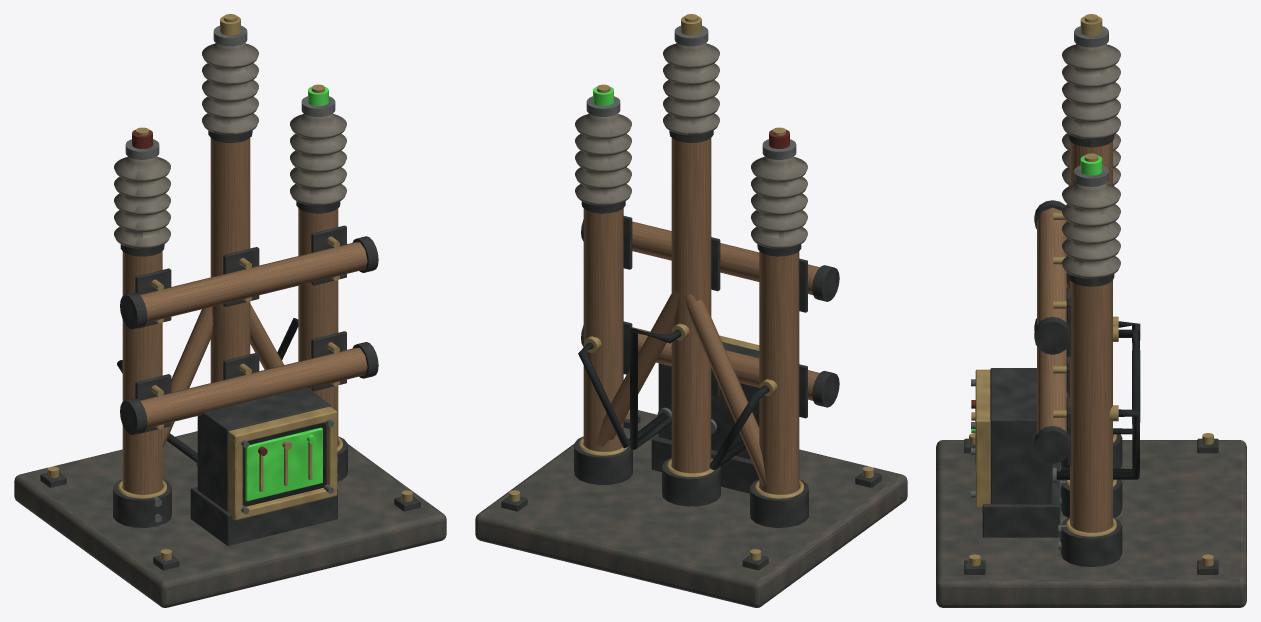
File: power-grid-v02.glb
The picture shows the model from 3 angles, left to right: view 1: azimuth 30°, elevation 25°; view 2: azimuth 150°, elevation 25°; view 3: azimuth 270°, elevation 25°; orthographic projection. The views are drawn at different scales.
Visible parts, largest first — view 1: POWER GRID | dressed stone footing, POWER GRID | longitudinal timber post.001, POWER GRID | retained timber crossarm.001, POWER GRID | retained timber crossarm, POWER GRID | longitudinal timber post, POWER GRID | sealed timber junction board, POWER GRID | continuous copper ceramic insulator, POWER GRID | continuous red ceramic insulator, POWER GRID | continuous green ceramic insulator, POWER GRID | longitudinal timber post.002, POWER GRID | junction box founded foot, POWER GRID | fixed lacquered green legend (+16 smaller); view 2: POWER GRID | dressed stone footing, POWER GRID | longitudinal timber post.001, POWER GRID | longitudinal timber post, POWER GRID | longitudinal timber post.002, POWER GRID | continuous copper ceramic insulator, POWER GRID | continuous red ceramic insulator, POWER GRID | continuous green ceramic insulator, POWER GRID | founded diagonal timber brace, POWER GRID | retained timber crossarm.001, POWER GRID | sealed timber junction board, POWER GRID | founded diagonal timber brace.001, POWER GRID | founded iron post shoe (+9 smaller); view 3: POWER GRID | dressed stone footing, POWER GRID | longitudinal timber post.002, POWER GRID | sealed timber junction board, POWER GRID | continuous copper ceramic insulator, POWER GRID | continuous green ceramic insulator, POWER GRID | junction box founded foot, POWER GRID | retained timber crossarm.001, POWER GRID | retained timber crossarm, POWER GRID | founded iron post shoe.002, POWER GRID | legend retained upright.001, POWER GRID | crossarm endgrain metal cap.003, POWER GRID | crossarm endgrain metal cap.001 (+8 smaller).
Part boxes in pixels (x1,y1,x2,y2): POWER GRID | dressed stone footing: (14, 431, 446, 607); POWER GRID | longitudinal timber post.001: (210, 138, 250, 382); POWER GRID | retained timber crossarm.001: (139, 242, 367, 322); POWER GRID | retained timber crossarm: (139, 348, 367, 428); POWER GRID | longitudinal timber post: (122, 251, 162, 494); POWER GRID | sealed timber junction board: (197, 387, 330, 511); POWER GRID | continuous copper ceramic insulator: (202, 43, 258, 135); POWER GRID | continuous red ceramic insulator: (114, 156, 170, 248); POWER GRID | continuous green ceramic insulator: (290, 113, 346, 205); POWER GRID | longitudinal timber post.002: (298, 208, 338, 445); POWER GRID | junction box founded foot: (190, 486, 337, 545); POWER GRID | fixed lacquered green legend: (245, 427, 322, 501); POWER GRID | dressed stone footing: (475, 410, 907, 607); POWER GRID | longitudinal timber post.001: (671, 138, 711, 472); POWER GRID | longitudinal timber post: (759, 251, 799, 494); POWER GRID | longitudinal timber post.002: (583, 208, 623, 451); POWER GRID | continuous copper ceramic insulator: (663, 43, 719, 135); POWER GRID | continuous red ceramic insulator: (751, 156, 807, 248); POWER GRID | continuous green ceramic insulator: (575, 113, 631, 205); POWER GRID | founded diagonal timber brace: (684, 294, 767, 486); POWER GRID | retained timber crossarm.001: (632, 221, 819, 294); POWER GRID | sealed timber junction board: (658, 342, 759, 459); POWER GRID | founded diagonal timber brace.001: (596, 290, 679, 446); POWER GRID | founded iron post shoe: (750, 479, 808, 527); POWER GRID | dressed stone footing: (936, 440, 1246, 607); POWER GRID | longitudinal timber post.002: (1070, 280, 1112, 532); POWER GRID | sealed timber junction board: (990, 368, 1052, 504); POWER GRID | continuous copper ceramic insulator: (1062, 44, 1120, 139); POWER GRID | continuous green ceramic insulator: (1062, 183, 1120, 278); POWER GRID | junction box founded foot: (982, 462, 1060, 537); POWER GRID | retained timber crossarm.001: (1037, 207, 1068, 324); POWER GRID | retained timber crossarm: (1037, 346, 1068, 433); POWER GRID | founded iron post shoe.002: (1060, 517, 1122, 566); POWER GRID | legend retained upright.001: (975, 426, 990, 501); POWER GRID | crossarm endgrain metal cap.003: (1034, 316, 1070, 354); POWER GRID | crossarm endgrain metal cap.001: (1034, 426, 1070, 463).
Size of the model in its own units: 0.88 by 1.48 by 0.8.
Materials: 9 (9 with a texture image).
